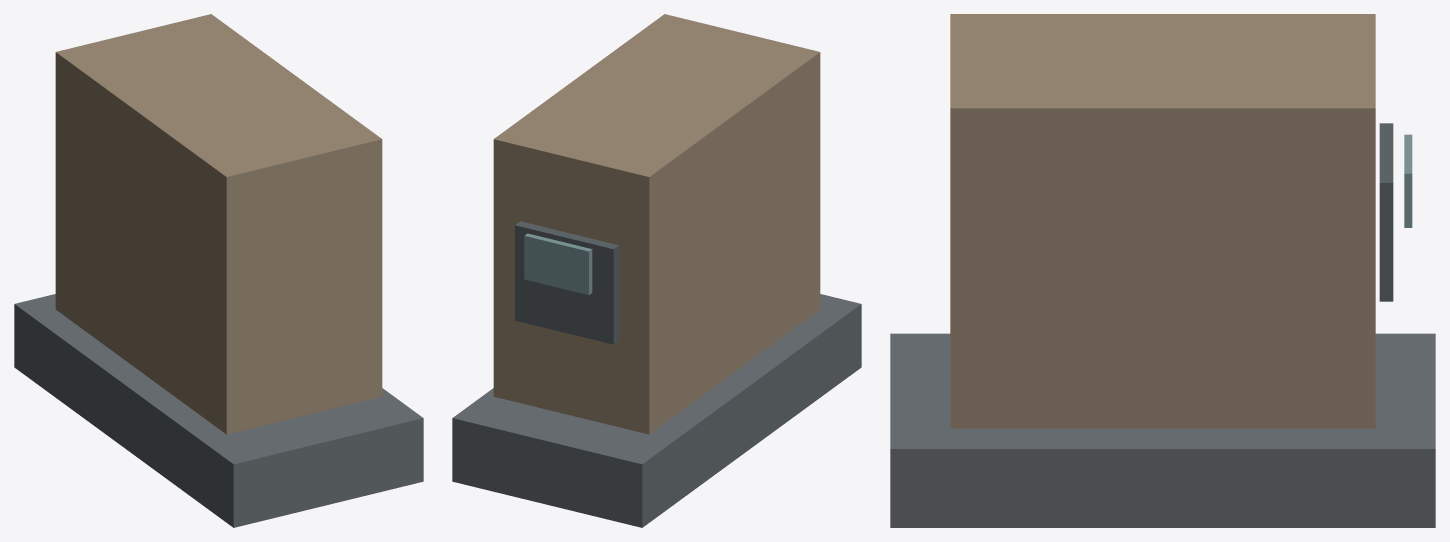
The model's file is iz3_military_bunk_02.glb.
The picture shows the model from 3 angles, left to right: view 1: azimuth 30°, elevation 25°; view 2: azimuth 150°, elevation 25°; view 3: azimuth 270°, elevation 25°; orthographic projection. The views are drawn at different scales.
Visible parts, largest first — view 1: cabinet, base; view 2: cabinet, base, panel, display; view 3: cabinet, base, panel, display.
Part boxes in pixels (bbox=[...]): cabinet: bbox=[55, 14, 382, 434]; base: bbox=[14, 294, 423, 527]; cabinet: bbox=[493, 14, 820, 434]; base: bbox=[452, 294, 861, 527]; panel: bbox=[515, 221, 619, 344]; display: bbox=[524, 233, 592, 295]; cabinet: bbox=[950, 14, 1375, 428]; base: bbox=[890, 333, 1435, 527]; panel: bbox=[1379, 123, 1393, 301]; display: bbox=[1404, 134, 1412, 227].
Size of the model in its own units: 1 by 1.66 by 2.
